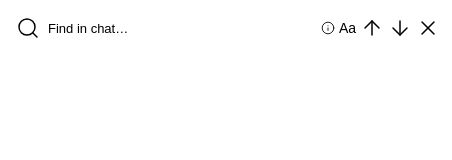
Test case: SearchBar › minimum search length › says it has not searched yet when the term is below the floor
The width and height of the screenshot is (452, 160).
Type "r" into the field with placeholder "Find in chat…" at (180, 28), box [44,12,317,44]
Wait 200 ms
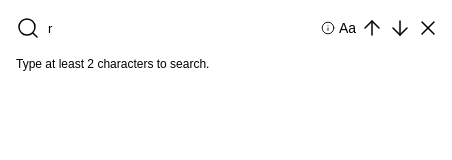
Expected: the message with test id "conversation-search-bar-minimum" shows "Type at least 2 characters to search", [16,57,209,71]
